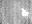person: (21, 9, 28, 16)
